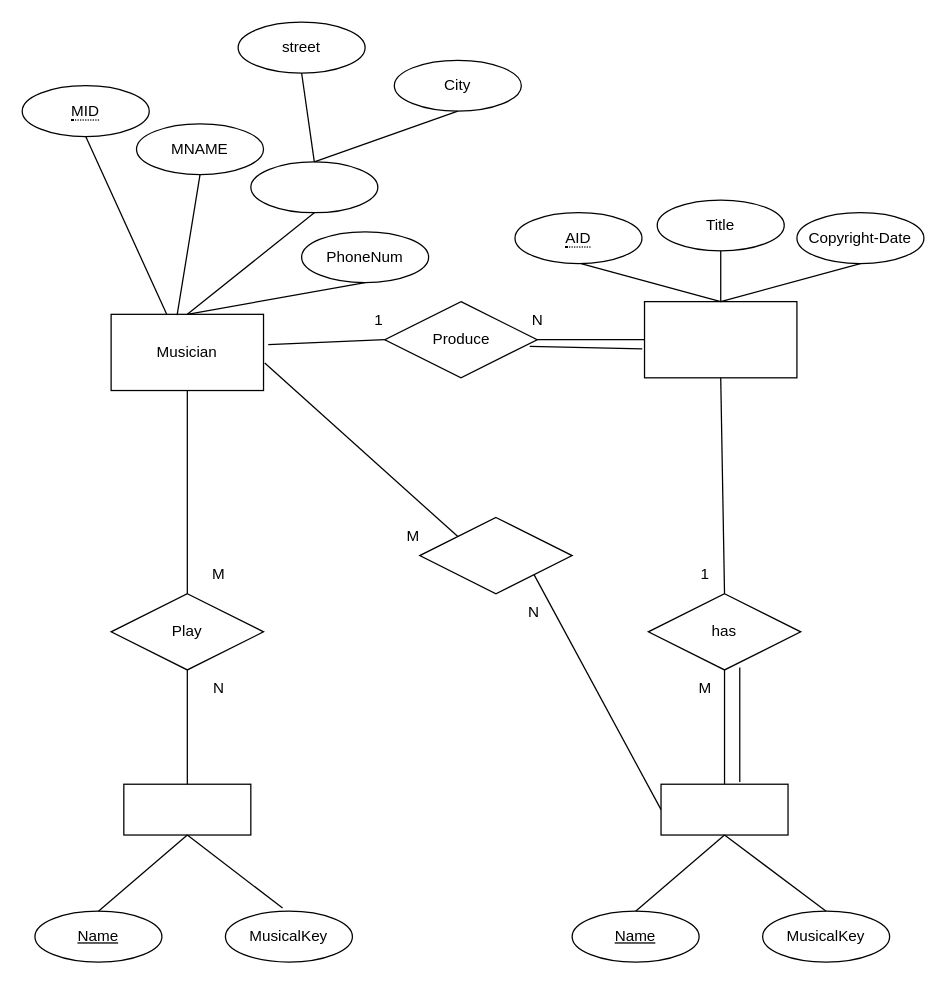
Image size: 946x984. Some labels were removed from this diagram. Here are the shapes that lost their labels. From the top down, the centre of each, then its label:
pixel 314 187: Address
pixel 720 339: Album
pixel 495 555: Performe
pixel 187 809: Instrument
pixel 724 809: Song
